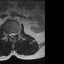CCS_normal: (11, 30, 13, 40)
LFS_normal: (15, 30, 17, 36)
LLS_normal: (13, 30, 15, 37)
RFS_stenosis: (6, 31, 9, 36)
RLS_normal: (9, 31, 11, 37)
